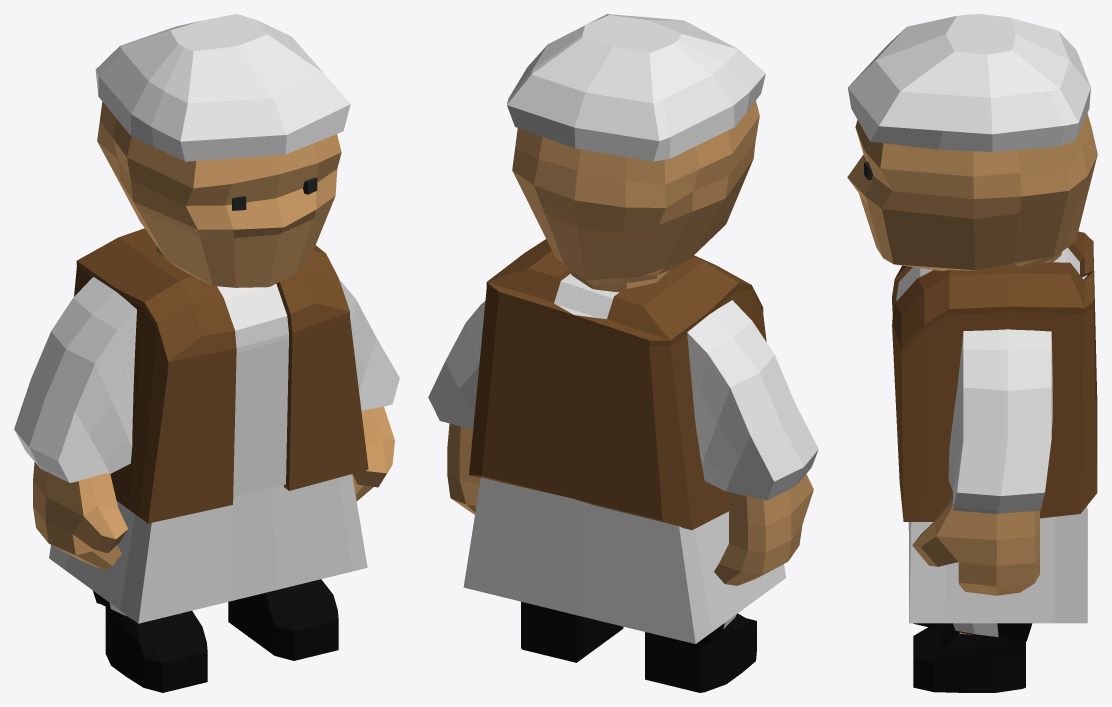
3 views of the same model, side by side, from view 1: azimuth 30°, elevation 25°; view 2: azimuth 150°, elevation 25°; view 3: azimuth 270°, elevation 25° (orthographic).
Parts seen in each view (by area): view 1: pasted__AK27.000; view 2: pasted__AK27.000; view 3: pasted__AK27.000.
Boxes of the visible parts, x1,y1,x2,y2 form: pasted__AK27.000: (14, 14, 399, 692); pasted__AK27.000: (428, 14, 818, 692); pasted__AK27.000: (847, 14, 1097, 692).
Bounding box in the file's own units: 48.36 × 79.51 × 29.52.
